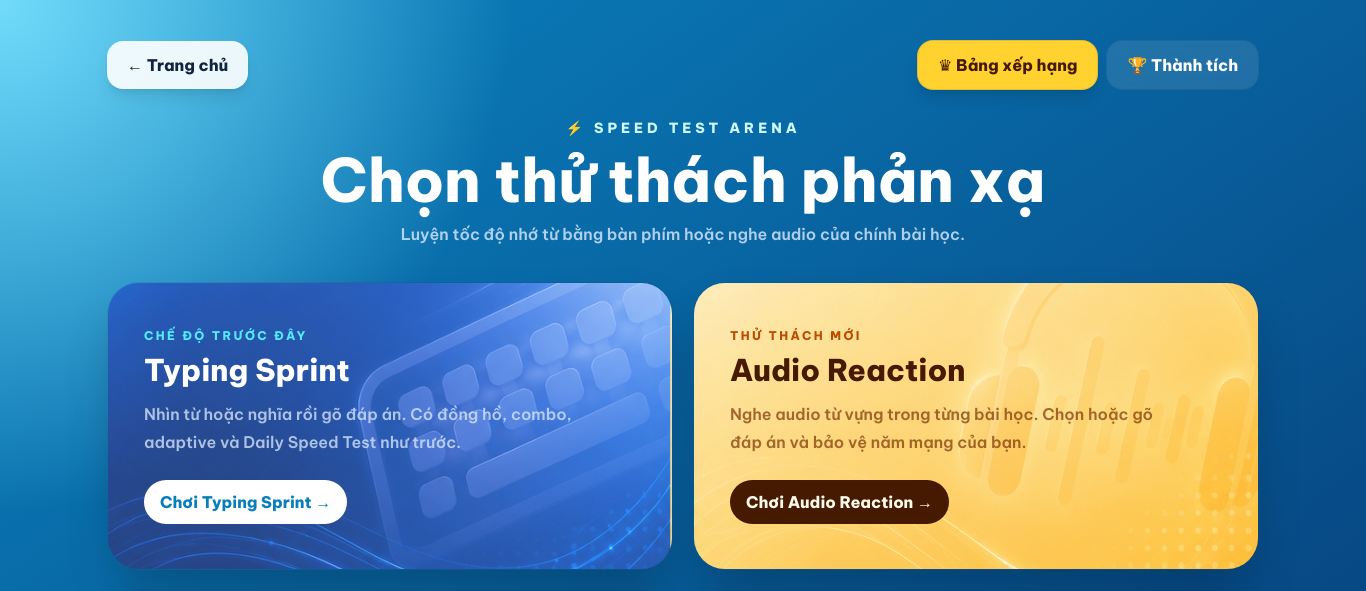
Test case: SpeedTestArena › không cần tải toàn bộ vocabulary để liệt kê lesson trong Arena
What coordinates should you click on to do the following:
click the button named "Chơi Audio Reaction"
I would click on:
 (976, 426)
Its box is x1=693 y1=282 x2=1259 y2=570.
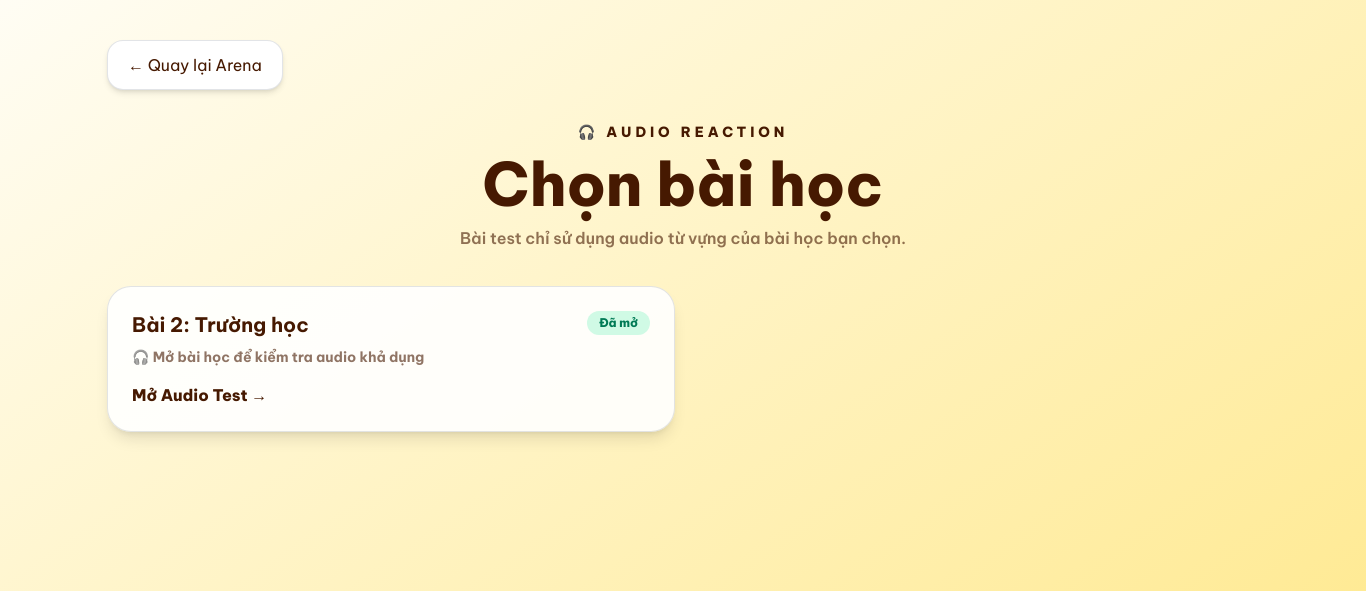
Expected: the text "🎧 Mở bài học để kiểm tra audio khả dụng" is shown, x1=132 y1=348 x2=424 y2=366
